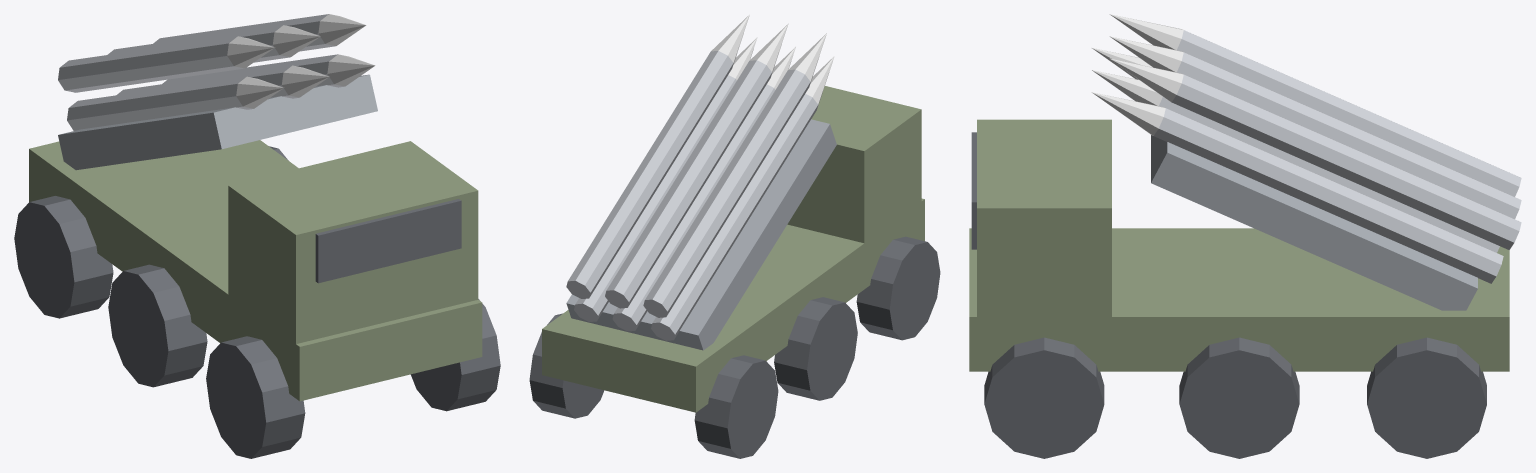
The model's file is Rocket Artillery.glb.
The picture shows the model from 3 angles, left to right: view 1: azimuth 30°, elevation 25°; view 2: azimuth 150°, elevation 25°; view 3: azimuth 270°, elevation 25°; orthographic projection. The views are drawn at different scales.
Visible parts, largest first — view 1: Body; view 2: Body; view 3: Body.
Boxes of the visible parts, bbox=[...] form: Body: bbox=[14, 14, 500, 458]; Body: bbox=[529, 14, 940, 458]; Body: bbox=[969, 14, 1521, 458].
Size of the model in its own units: 0.36 by 0.5378 by 0.736.
